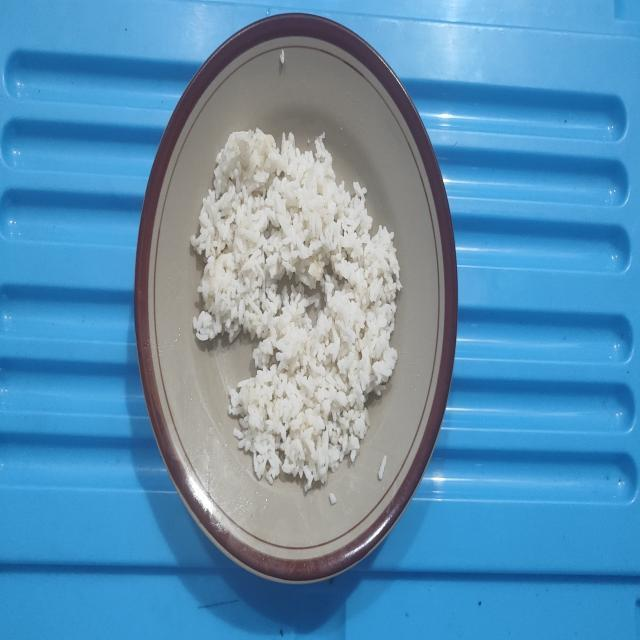nasi_putih: (190, 128, 402, 492)
